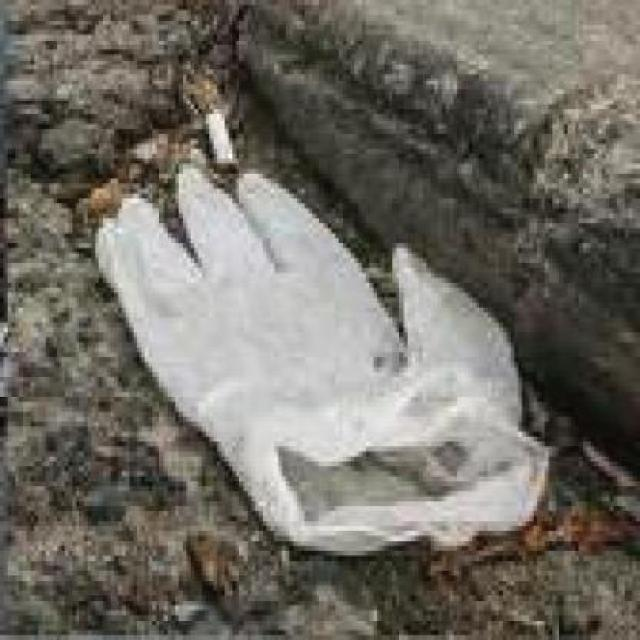glove: (93, 161, 542, 567)
